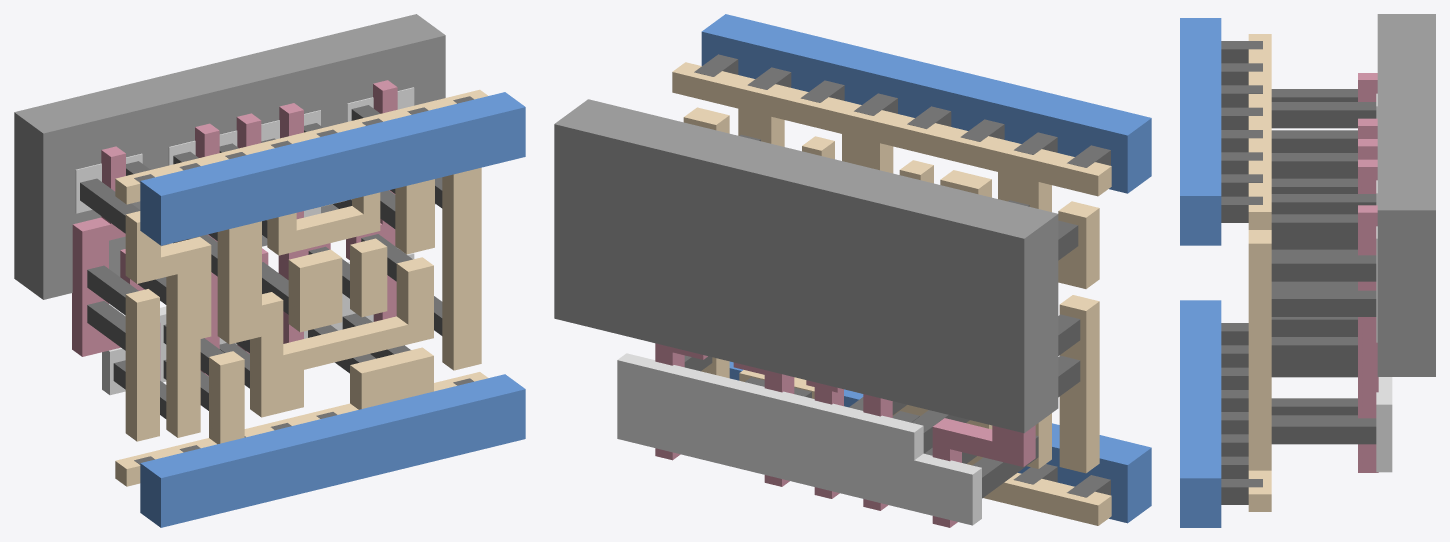
File: sky130_fd_sc_hd__a21bo_1.gds.gltf
3 views of the same model, side by side, from view 1: azimuth 30°, elevation 25°; view 2: azimuth 150°, elevation 25°; view 3: azimuth 270°, elevation 25° (orthographic). The views are drawn at different scales.
Parts seen in each view (by area): view 1: sky130_fd_sc_hd__a21bo_1_li1, sky130_fd_sc_hd__a21bo_1_met1, sky130_fd_sc_hd__a21bo_1_nwell, sky130_fd_sc_hd__a21bo_1_licon, sky130_fd_sc_hd__a21bo_1_poly, sky130_fd_sc_hd__a21bo_1_diff, sky130_fd_sc_hd__a21bo_1_mcon; view 2: sky130_fd_sc_hd__a21bo_1_nwell, sky130_fd_sc_hd__a21bo_1_li1, sky130_fd_sc_hd__a21bo_1_diff, sky130_fd_sc_hd__a21bo_1_met1, sky130_fd_sc_hd__a21bo_1_poly, sky130_fd_sc_hd__a21bo_1_mcon, sky130_fd_sc_hd__a21bo_1_licon; view 3: sky130_fd_sc_hd__a21bo_1_licon, sky130_fd_sc_hd__a21bo_1_nwell, sky130_fd_sc_hd__a21bo_1_met1, sky130_fd_sc_hd__a21bo_1_mcon, sky130_fd_sc_hd__a21bo_1_li1, sky130_fd_sc_hd__a21bo_1_poly, sky130_fd_sc_hd__a21bo_1_diff.
Boxes of the visible parts, <box> form: sky130_fd_sc_hd__a21bo_1_li1: <box>115,89,488,486</box>; sky130_fd_sc_hd__a21bo_1_met1: <box>140,92,525,527</box>; sky130_fd_sc_hd__a21bo_1_nwell: <box>14,14,445,299</box>; sky130_fd_sc_hd__a21bo_1_licon: <box>80,105,442,418</box>; sky130_fd_sc_hd__a21bo_1_poly: <box>72,80,397,380</box>; sky130_fd_sc_hd__a21bo_1_diff: <box>75,87,414,395</box>; sky130_fd_sc_hd__a21bo_1_mcon: <box>134,96,473,464</box>; sky130_fd_sc_hd__a21bo_1_nwell: <box>554,99,1058,433</box>; sky130_fd_sc_hd__a21bo_1_li1: <box>672,62,1111,525</box>; sky130_fd_sc_hd__a21bo_1_diff: <box>617,353,981,525</box>; sky130_fd_sc_hd__a21bo_1_met1: <box>701,14,1151,523</box>; sky130_fd_sc_hd__a21bo_1_poly: <box>655,343,1035,527</box>; sky130_fd_sc_hd__a21bo_1_mcon: <box>694,54,1110,497</box>; sky130_fd_sc_hd__a21bo_1_licon: <box>684,134,1080,498</box>; sky130_fd_sc_hd__a21bo_1_licon: <box>1271,89,1376,444</box>; sky130_fd_sc_hd__a21bo_1_nwell: <box>1377,14,1435,376</box>; sky130_fd_sc_hd__a21bo_1_met1: <box>1180,18,1221,527</box>; sky130_fd_sc_hd__a21bo_1_mcon: <box>1221,41,1262,504</box>; sky130_fd_sc_hd__a21bo_1_li1: <box>1248,34,1271,511</box>; sky130_fd_sc_hd__a21bo_1_poly: <box>1358,73,1378,472</box>; sky130_fd_sc_hd__a21bo_1_diff: <box>1376,93,1392,472</box>.
Bounding box in the file's own units: 4.06 × 3.2 × 2.24.
